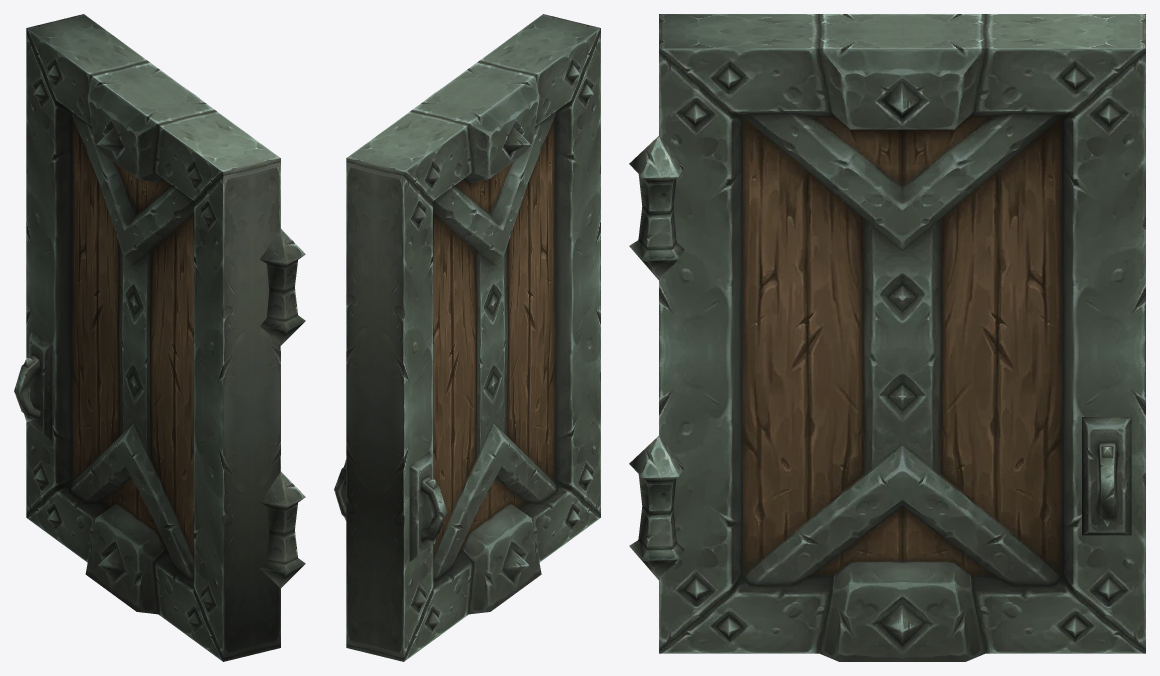
The picture shows the model from 3 angles, left to right: view 1: azimuth 30°, elevation 25°; view 2: azimuth 150°, elevation 25°; view 3: azimuth 270°, elevation 25°; orthographic projection. The views are drawn at different scales.
Size of the model in its own units: 0.9528 by 3.88 by 3.01.
1 material, 1 textured.
